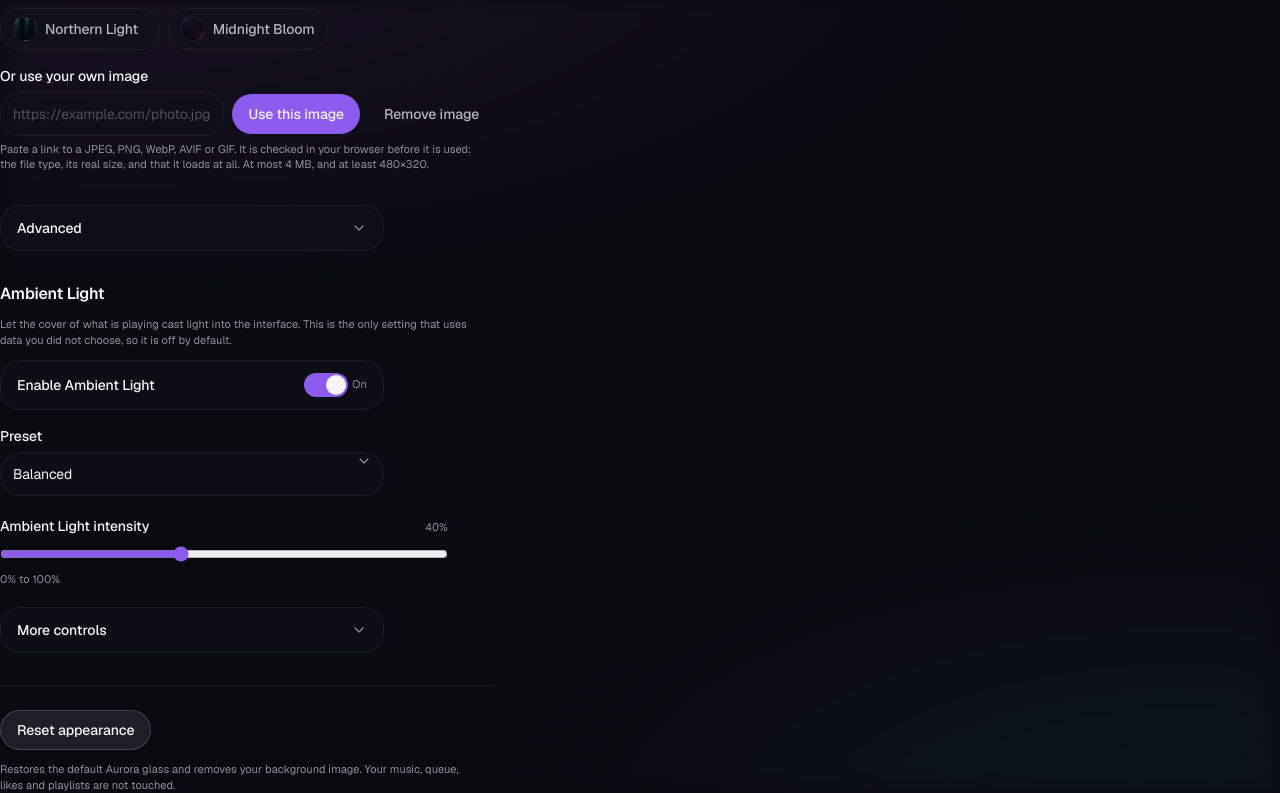
Test: Appearance panel: Ambient Light is a first-class, progressive setting › the select shows the stored direction, and every option carries its own value
(page scrolled)
What coordinates should you click on to do the following:
click the button with test id "ambient-more-toggle"
I would click on:
 (62, 630)
Its box is [0, 607, 384, 653].
(page scrolled)
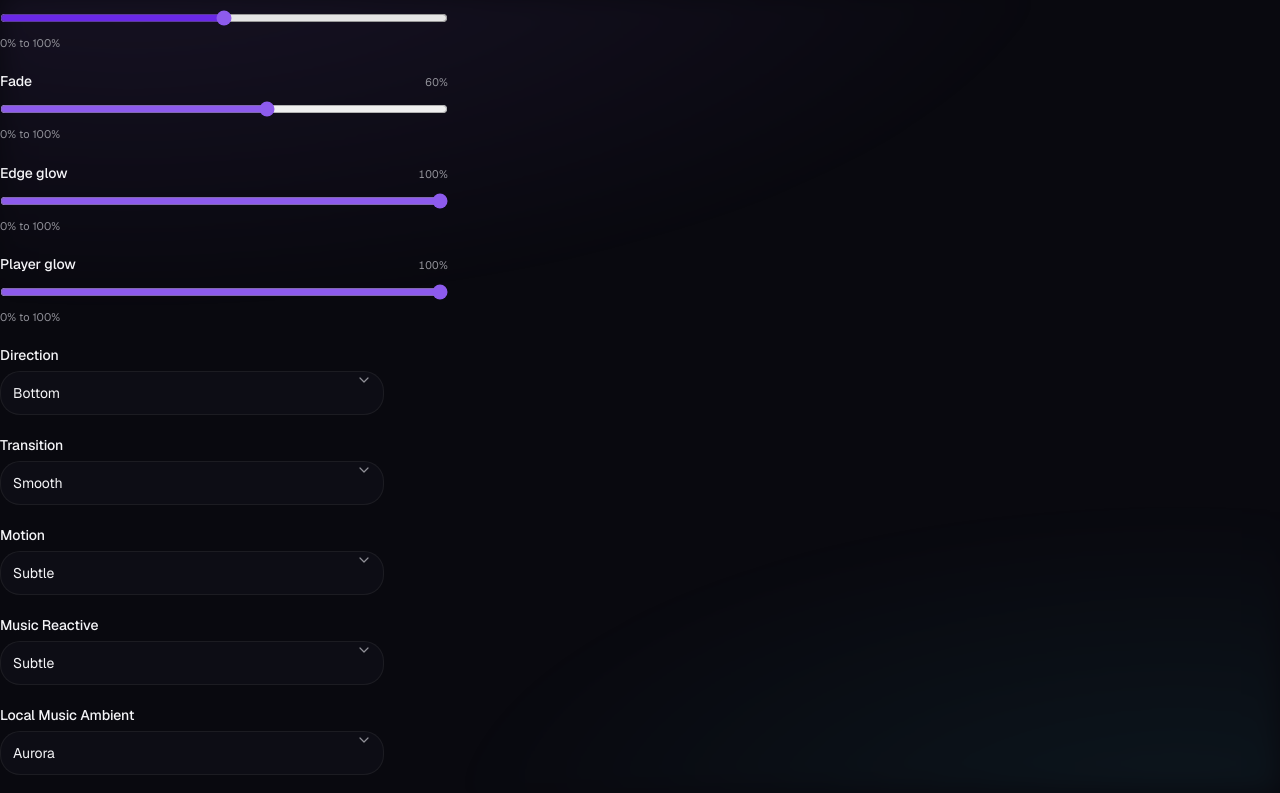
Check: the button named "Direction" reads "Bottom"
What coordinates should you click on to do the following:
click the button named "Direction"
I would click on:
 (36, 393)
Its box is [0, 371, 384, 415].
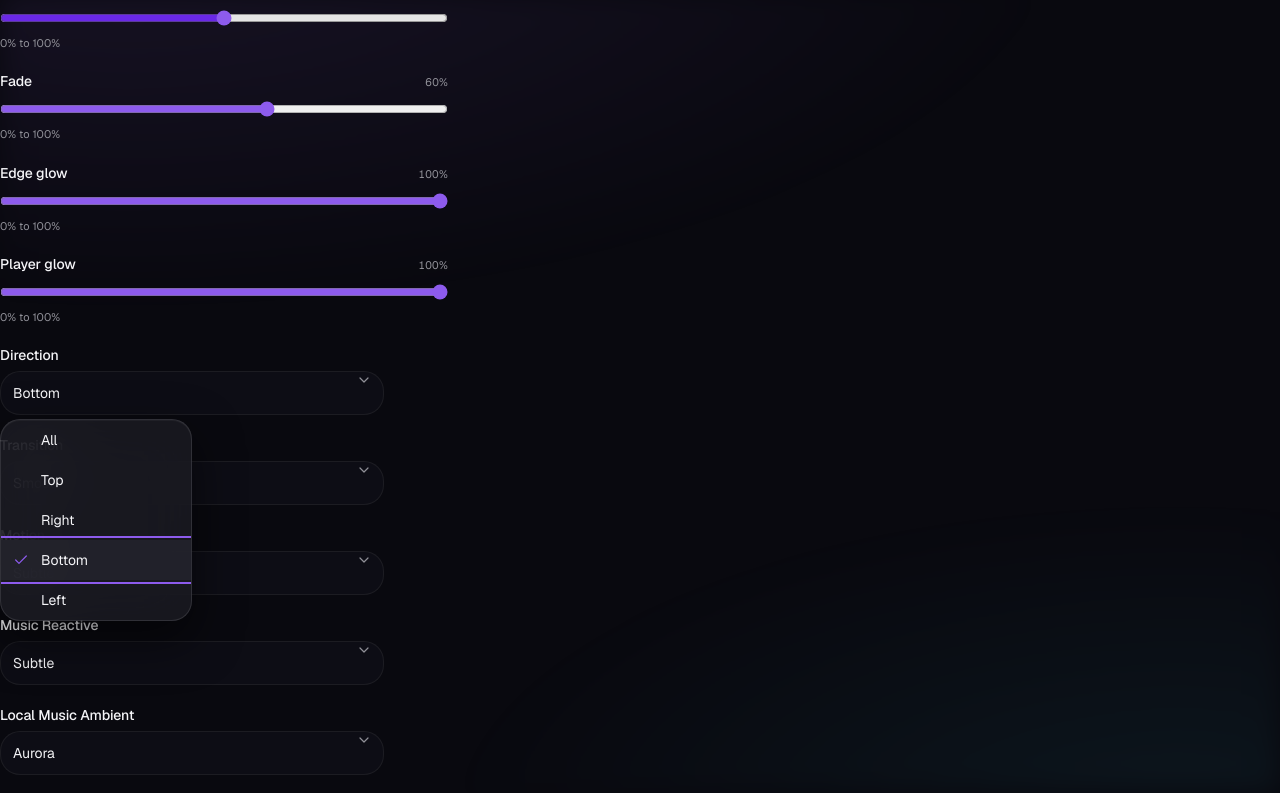
Check: the menu item with test id "ambient-ambientDirection-top" reads "Top", box [1, 460, 191, 500]
